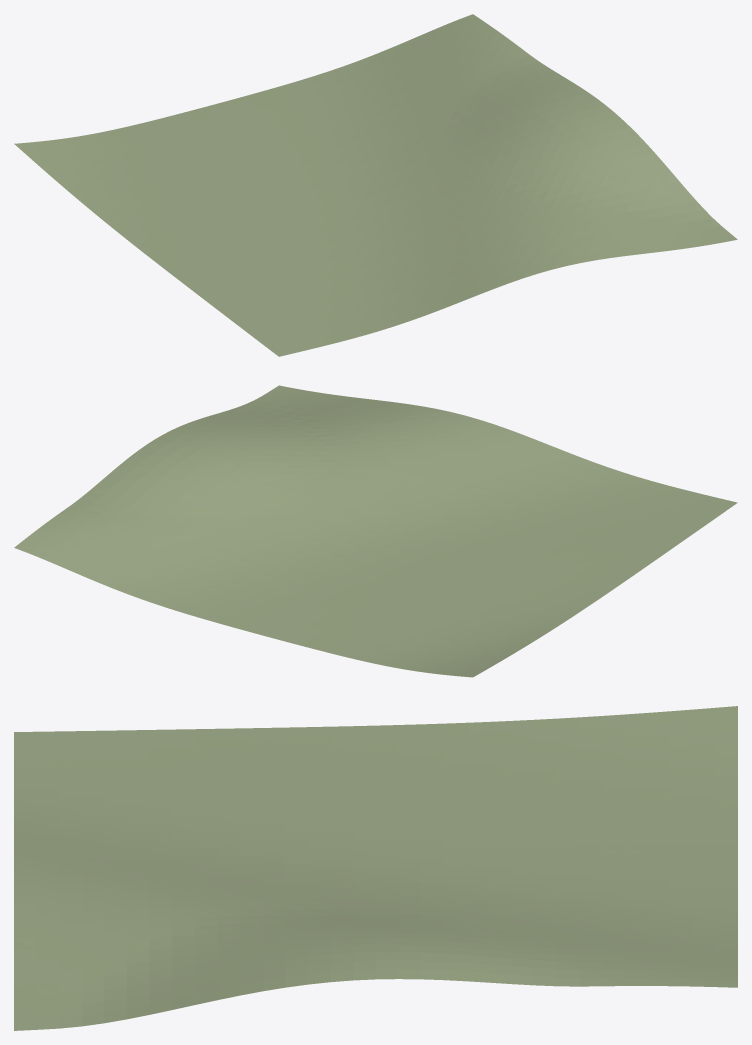
The model's file is desert-7-8.glb.
3 renders of one model, top to bottom at view 1: azimuth 30°, elevation 25°; view 2: azimuth 150°, elevation 25°; view 3: azimuth 270°, elevation 25°, orthographic. The views are drawn at different scales.
Visible parts, largest first — view 1: desert-7-8; view 2: desert-7-8; view 3: desert-7-8.
Part boxes in pixels (bbox=[...]): desert-7-8: bbox=[14, 14, 737, 356]; desert-7-8: bbox=[14, 385, 737, 677]; desert-7-8: bbox=[14, 706, 737, 1030].
Bounding box in the file's own units: 512 × 46.52 × 512.
